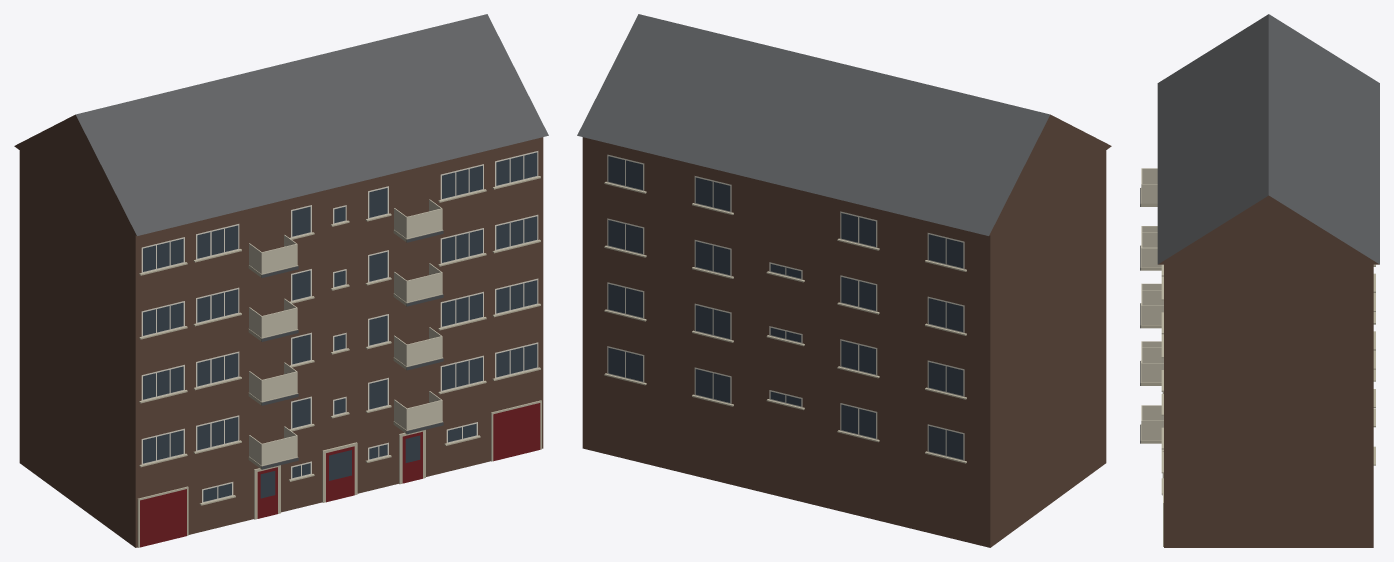
Rendered from nw-tower-top-balcony-5st__brick-cream-balcony__5__gable__long__solid.glb.
The picture shows the model from 3 angles, left to right: view 1: azimuth 30°, elevation 25°; view 2: azimuth 150°, elevation 25°; view 3: azimuth 270°, elevation 25°; orthographic projection. The views are drawn at different scales.
Visible parts, largest first — view 1: nw-tower-top-balcony-5st__brick-cream-balcony__5__gable__lon; view 2: nw-tower-top-balcony-5st__brick-cream-balcony__5__gable__lon; view 3: nw-tower-top-balcony-5st__brick-cream-balcony__5__gable__lon.
Part boxes in pixels (x1,y1,x2,y2): nw-tower-top-balcony-5st__brick-cream-balcony__5__gable__lon: [14, 14, 548, 547]; nw-tower-top-balcony-5st__brick-cream-balcony__5__gable__lon: [577, 14, 1111, 547]; nw-tower-top-balcony-5st__brick-cream-balcony__5__gable__lon: [1140, 14, 1379, 547].
Size of the model in its own units: 20.16 by 18.31 by 11.27.
